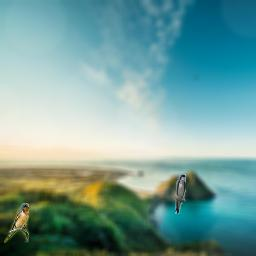Swallow: (4, 203, 29, 243), (175, 174, 186, 214)
